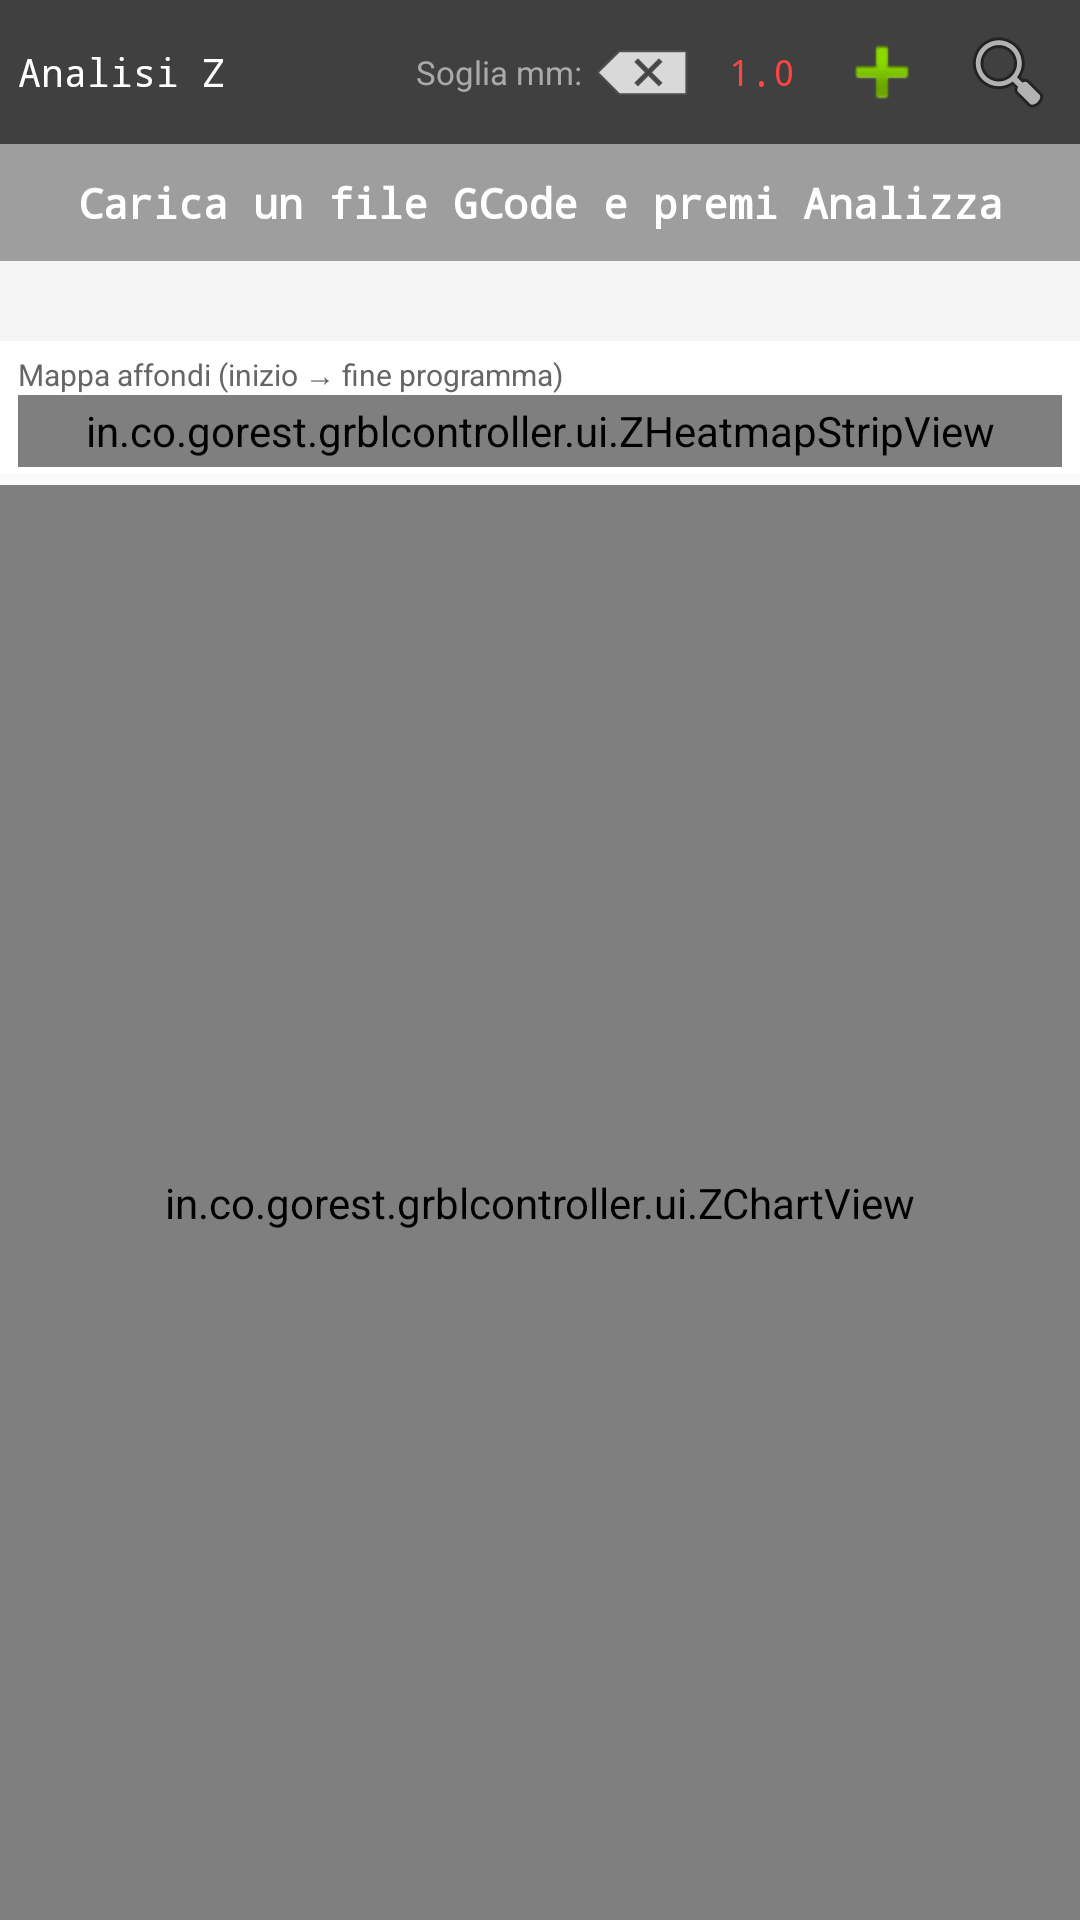

Point at icon controls on the screen. Image size 1080 x 1920, points as [x,y].
Soglia +: [882,72]
